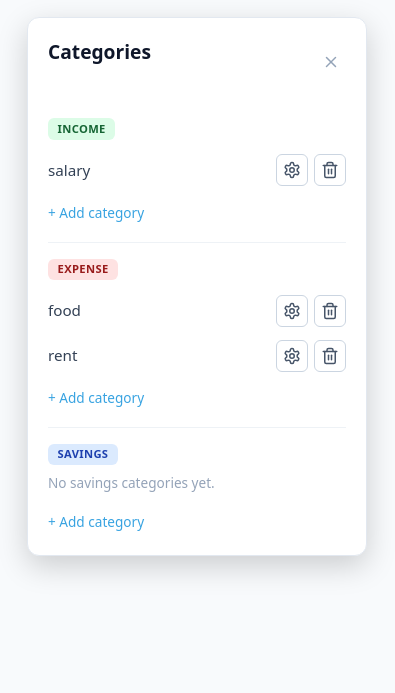
CategoriesPanel › surfaces a rename conflict error without closing the editor
This screenshot has width=395, height=693.
Expected: the text "food" is shown, [48, 299, 81, 322]
Step 1. Click the button named "Edit food" → (292, 311), box [276, 295, 308, 327]
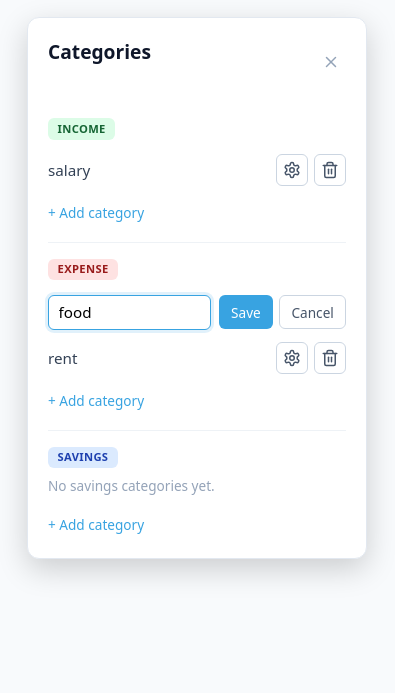
Step 2. Replace the text in the field showing "food" with "rent" → (129, 312), box [48, 295, 211, 330]
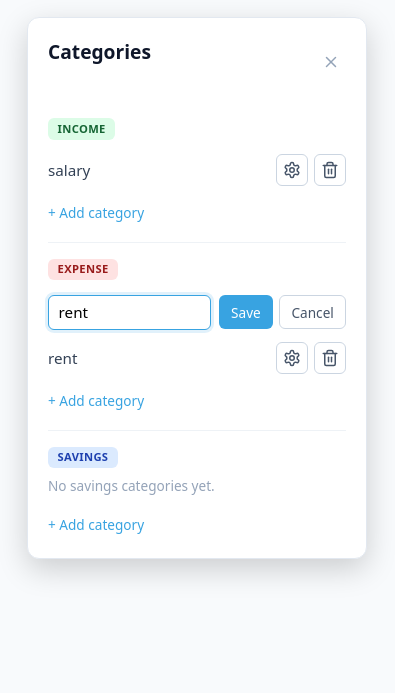
Step 3. Click the button "Save" → (246, 312), box [219, 295, 273, 329]
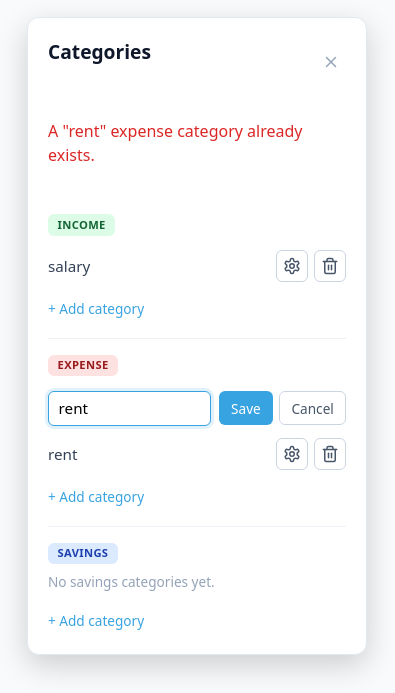
Result: the text "A \"rent\" expense category already exists." is shown at [48, 120, 302, 166]
